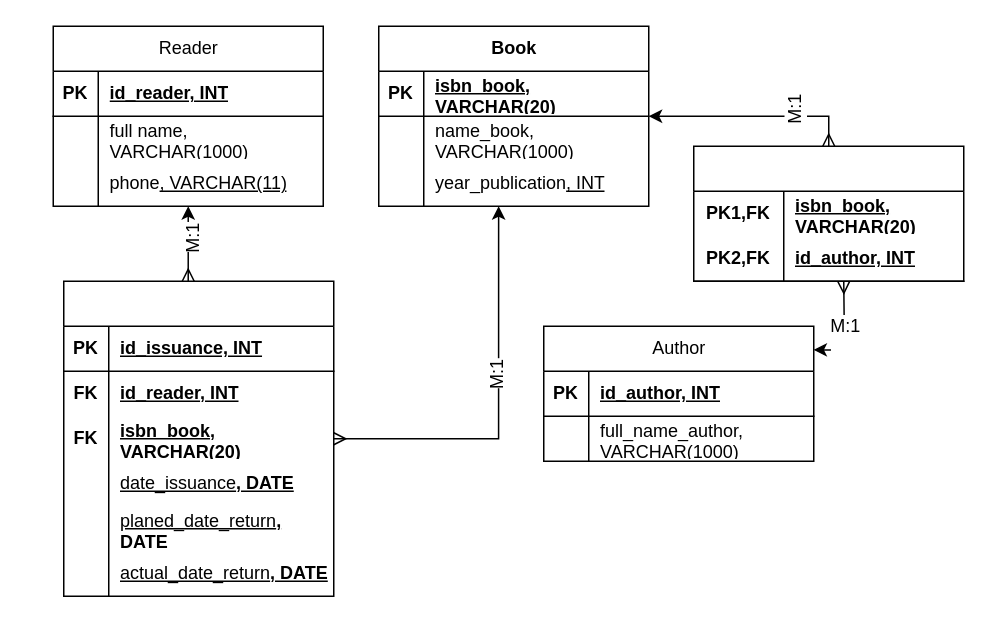
Image size: 990x623. Some labels were removed from this diagram. Each missing label, with the box of its shape:
Authorship: (692, 145, 964, 281)
Loan: (62, 280, 334, 596)
